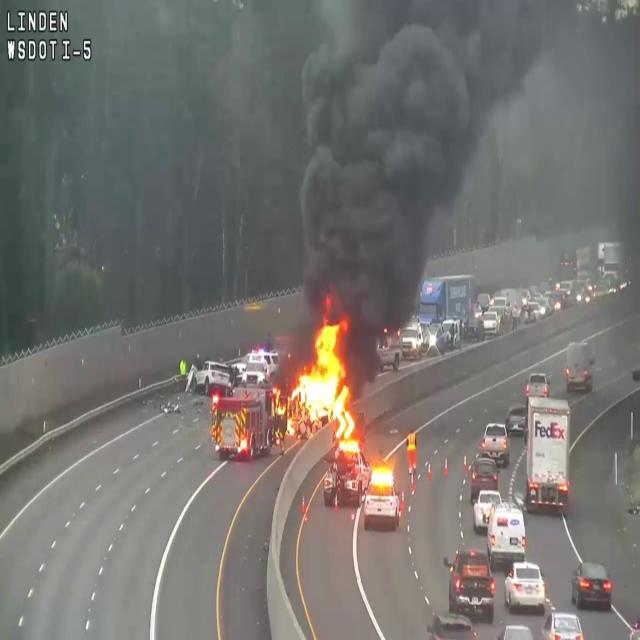Fire: (276, 313, 349, 424)
Smoke: (276, 1, 640, 320)
